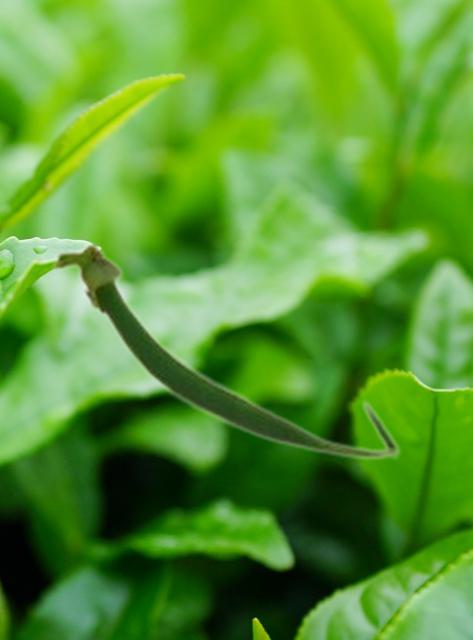french_bean: (49, 239, 401, 461)
